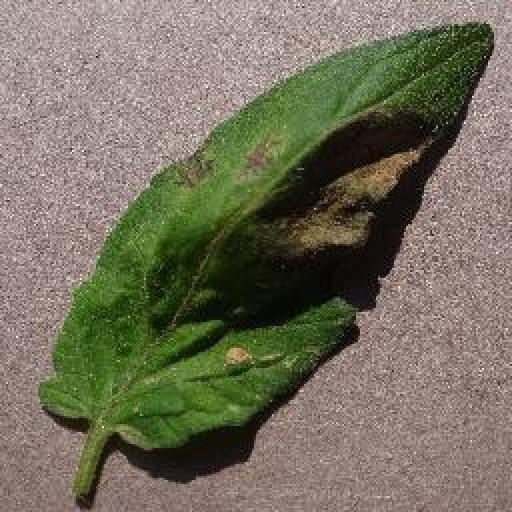disease_tomato: (40, 23, 493, 448)
